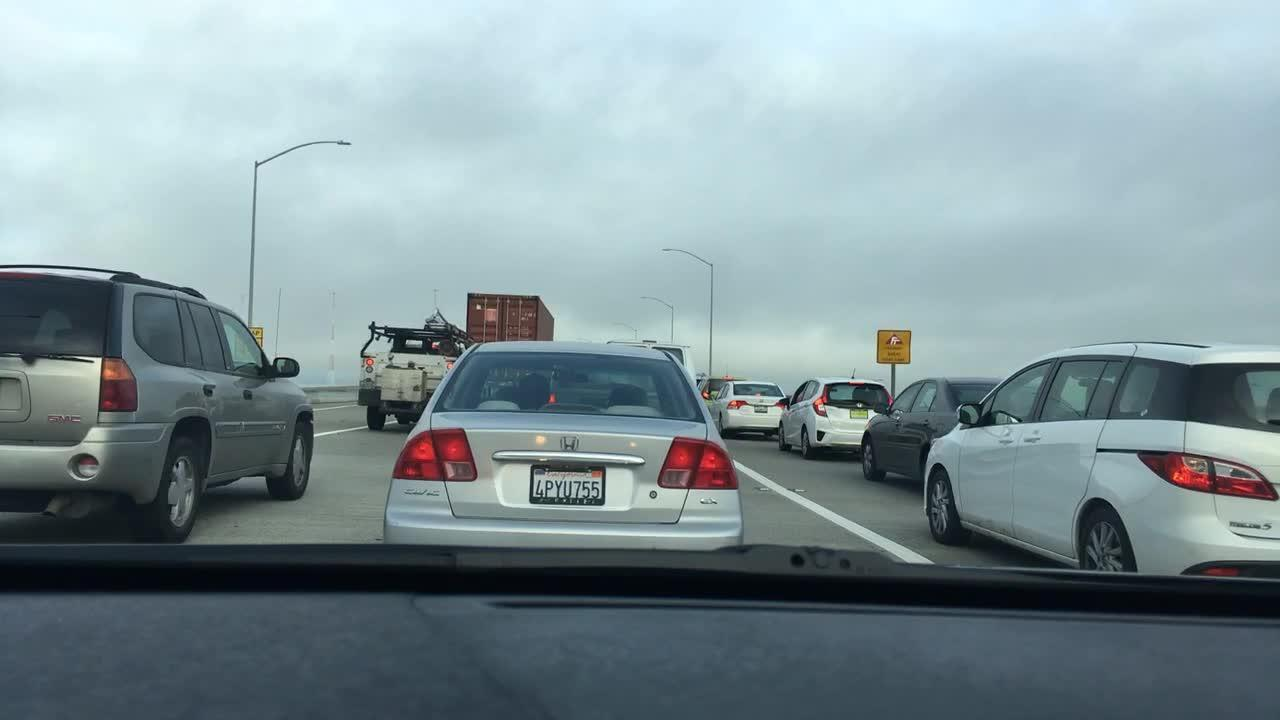GMC: (44, 410, 86, 428)
Honda: (555, 430, 582, 457), (851, 396, 867, 413)
